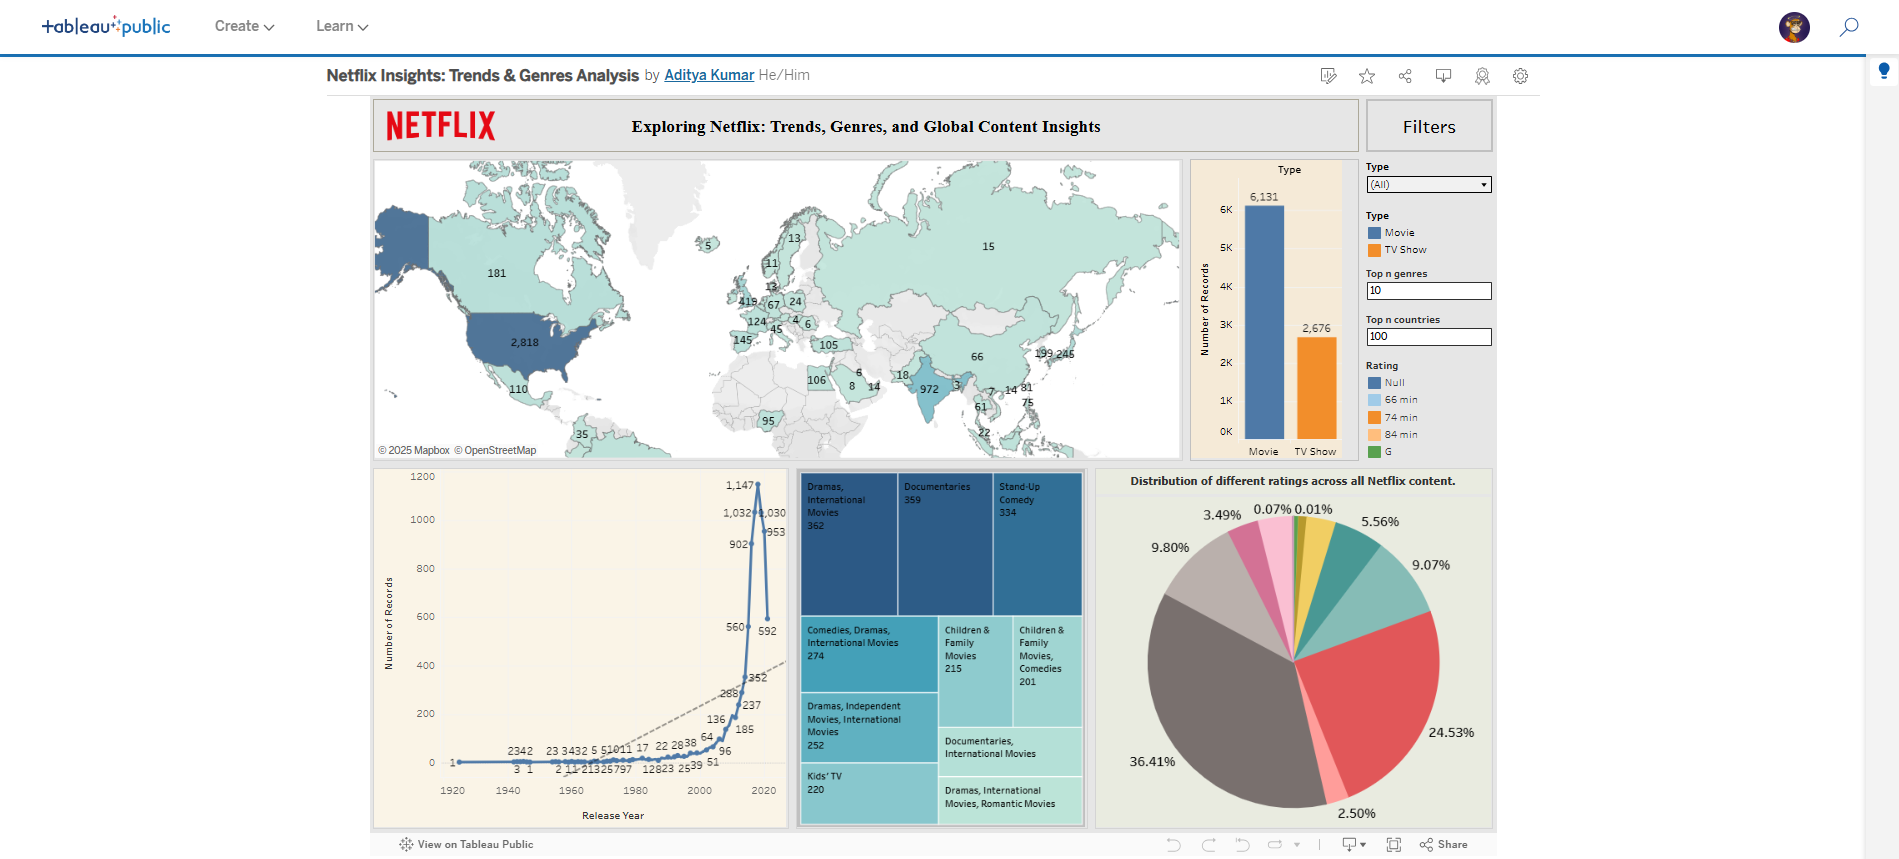

Layout of this report page (visuals, bound fields, positions):
{"tool":"tableau","page":{"name":"Visualizations","canvas":[1300,850],"ordinal":0},"visuals":[{"type":"title","box":[0,0,1145,68.9]},{"type":"text","box":[1145,0,155,69]},{"type":"image","param":"Image/pngwing.com.png","box":[14,13,156,45]},{"type":"worksheet","title":"Task 2","mark":"Automatic","box":[0,68.9,942,356.1]},{"type":"worksheet","title":"Task 1","mark":"Automatic","rows":["Number of Records"],"cols":["type"],"box":[942,68.9,203,356.1]},{"type":"filter","title":"Task 1","param":"[federated.1lep57e1gd853m1ab8yal0j08sym].[none:type:nk]","box":[1145,69,155,61]},{"type":"legend","title":"Task 1","param":"[federated.1lep57e1gd853m1ab8yal0j08sym].[none:type:nk]","box":[1145,130,155,72]},{"type":"parameter","param":"[Parameters].[Parameter 2]","box":[1145,202,155,56]},{"type":"parameter","param":"[Parameters].[Parameter 1]","box":[1145,258,155,56]},{"type":"legend","title":"Task 5","param":"[federated.1lep57e1gd853m1ab8yal0j08sym].[none:rating:nk]","box":[1145,314,155,111]},{"type":"worksheet","title":"Task 4","mark":"Automatic","rows":["Number of Records"],"cols":["release_year"],"box":[0,425,487,425]},{"type":"worksheet","title":"Task 3","mark":"Automatic","box":[487,425,345,425]},{"type":"worksheet","title":"Task 5","mark":"Pie","box":[832,425,468,425]}]}

Visuals, with their boxes on the page's 1300x850 design canvas (x1, y1, x2, y2). These are canvas units, not pixel positions in the 1899x859 screenshot, which may show the page scaled, cropped or inside an application window:
title: bbox(0, 0, 1145, 69)
text: bbox(1145, 0, 1300, 69)
image: bbox(14, 13, 170, 58)
"Task 2" worksheet: bbox(0, 69, 942, 425)
"Task 1" worksheet: bbox(942, 69, 1145, 425)
"Task 1" filter: bbox(1145, 69, 1300, 130)
"Task 1" legend: bbox(1145, 130, 1300, 202)
parameter: bbox(1145, 202, 1300, 258)
parameter: bbox(1145, 258, 1300, 314)
"Task 5" legend: bbox(1145, 314, 1300, 425)
"Task 4" worksheet: bbox(0, 425, 487, 850)
"Task 3" worksheet: bbox(487, 425, 832, 850)
"Task 5" worksheet (Pie marks): bbox(832, 425, 1300, 850)
